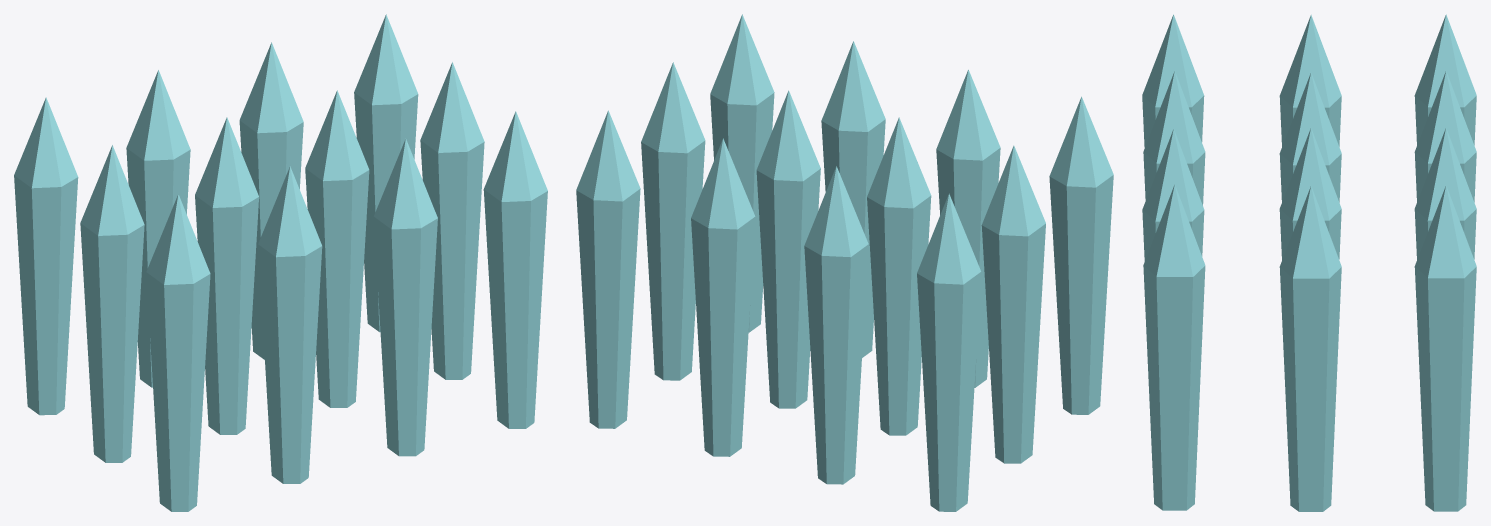
Rendered from spikes.FBX.
3 renders of one model, left to right at view 1: azimuth 30°, elevation 25°; view 2: azimuth 150°, elevation 25°; view 3: azimuth 270°, elevation 25°, orthographic. The views are drawn at different scales.
Visible parts, largest first — view 1: Box002, Box010, Box004, Box006, Box003, Box001, Box008, Box005, Box007, Box011, Box012, Box009; view 2: Box012, Box009, Box011, Box006, Box003, Box010, Box007, Box008, Box005, Box004, Box001, Box002; view 3: Box004, Box011, Box007, Box001, Box005, Box009, Box006, Box012, Box003, Box010, Box002, Box008.
Boxes of the visible parts, x1,y1,x2,y2 form: Box002: (373, 138, 437, 456); Box010: (14, 97, 78, 415); Box004: (483, 111, 547, 428); Box006: (80, 145, 144, 462); Box003: (146, 194, 210, 511); Box001: (258, 166, 322, 483); Box008: (195, 117, 258, 434); Box005: (305, 90, 369, 407); Box007: (420, 62, 484, 379); Box011: (354, 14, 418, 332); Box012: (126, 70, 190, 387); Box009: (239, 42, 303, 359); Box012: (804, 166, 868, 484); Box009: (691, 138, 755, 456); Box011: (576, 110, 640, 428); Box006: (981, 145, 1045, 463); Box003: (1049, 96, 1113, 414); Box010: (917, 193, 981, 511); Box007: (641, 62, 705, 380); Box008: (867, 117, 931, 435); Box005: (756, 90, 820, 408); Box004: (710, 14, 774, 332); Box001: (936, 69, 1000, 387); Box002: (821, 41, 885, 357); Box004: (1143, 184, 1205, 510); Box011: (1414, 185, 1476, 511); Box007: (1279, 185, 1341, 511); Box001: (1143, 71, 1205, 205); Box005: (1279, 128, 1341, 259); Box009: (1414, 128, 1476, 259); Box006: (1279, 14, 1341, 146); Box012: (1414, 71, 1476, 202); Box003: (1142, 14, 1204, 147); Box010: (1414, 14, 1476, 145); Box002: (1142, 129, 1204, 261); Box008: (1279, 72, 1341, 202).
Size of the model in its own units: 85.16 by 65.31 by 61.84.
